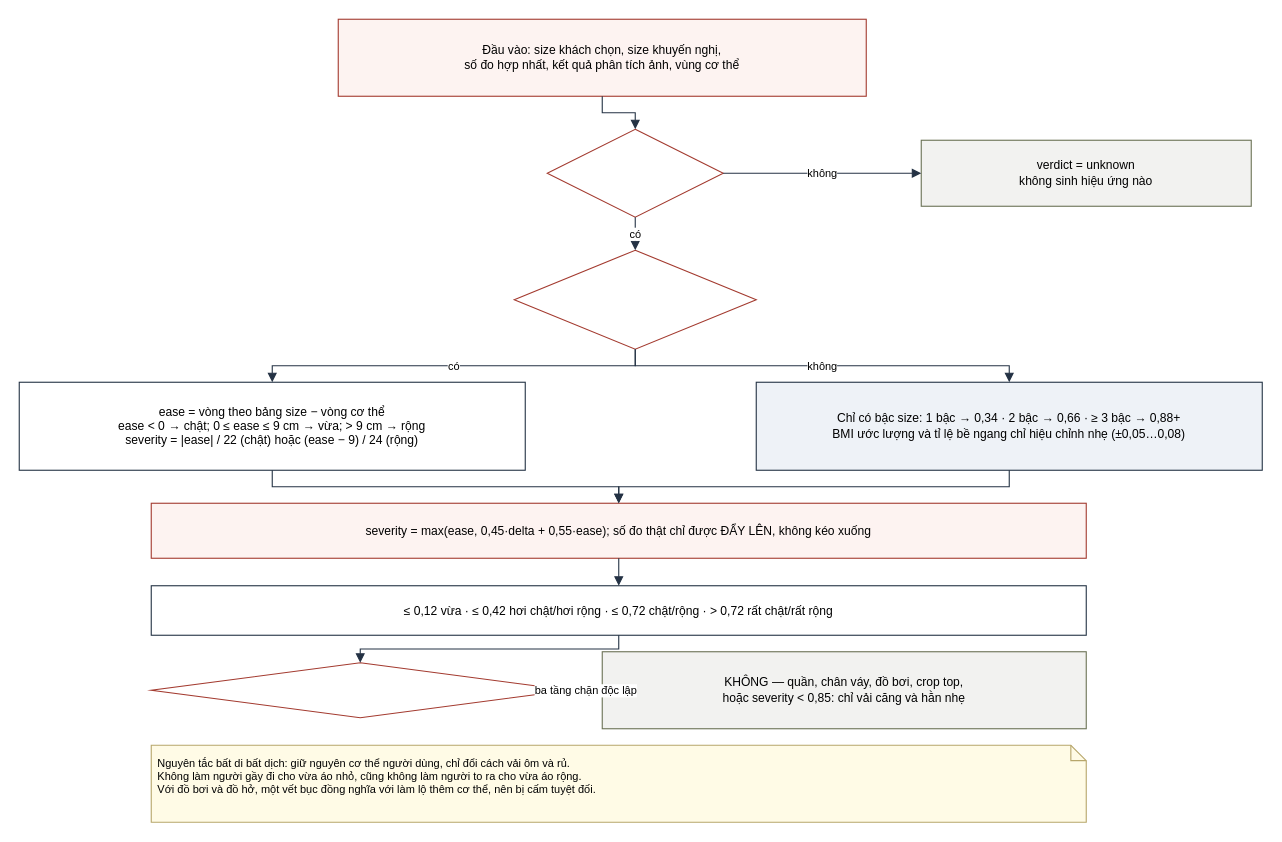
Some shapes in this 1282 by 842 pixel diagram are drawn without their labels. The shapes that lost their labels are listed below. From the top down, each one's centre as x and y in pixels, then its label:
point 634,172: Có đủ hai bậc size?
point 634,299: Có số đo vòng thật của vùng tương ứng?
point 359,690: Cho phép hiệu ứng bục đường may?
